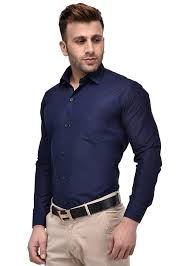F_belt: (43, 195, 123, 216)
F_shirt: (22, 60, 155, 218)
